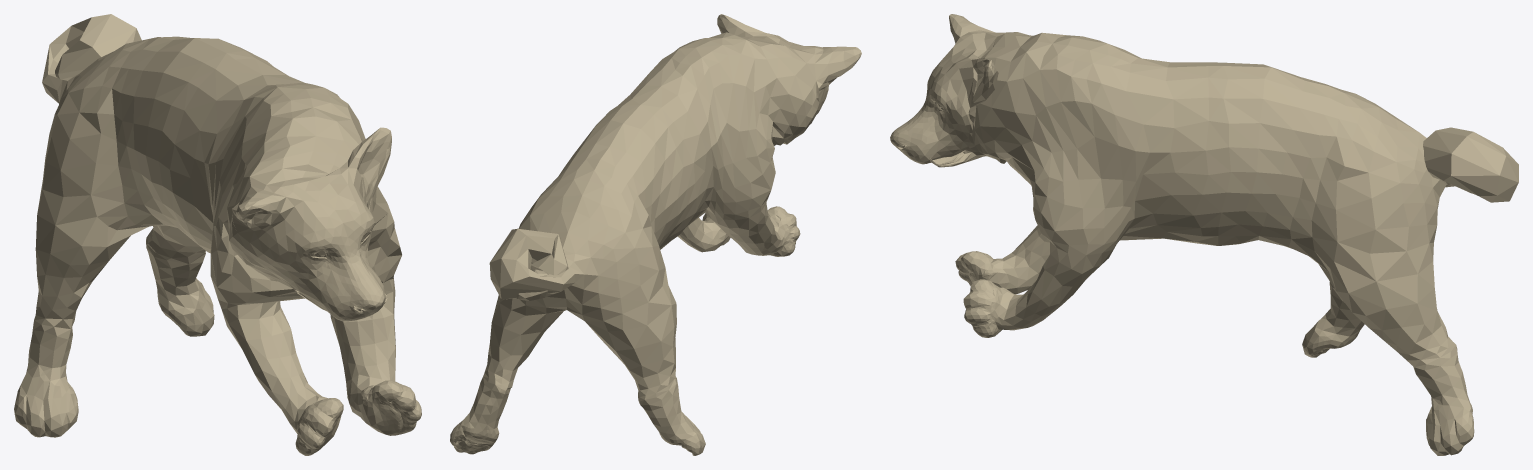
3 renders of one model, left to right at view 1: azimuth 30°, elevation 25°; view 2: azimuth 150°, elevation 25°; view 3: azimuth 270°, elevation 25°, orthographic. The views are drawn at different scales.
Parts seen in each view (by area): view 1: world; view 2: world; view 3: world.
Part boxes in pixels (bbox=[...]): world: bbox=[14, 14, 421, 455]; world: bbox=[450, 14, 861, 455]; world: bbox=[890, 14, 1518, 455].
Size of the model in its own units: 0.5166 by 0.7878 by 1.23.
